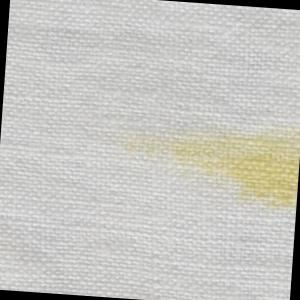Stain: (150, 113, 300, 214)
